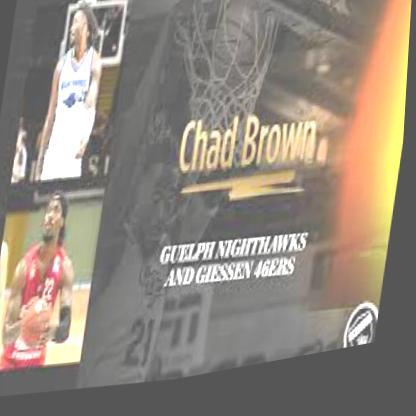basketball: (24, 300, 57, 354)
